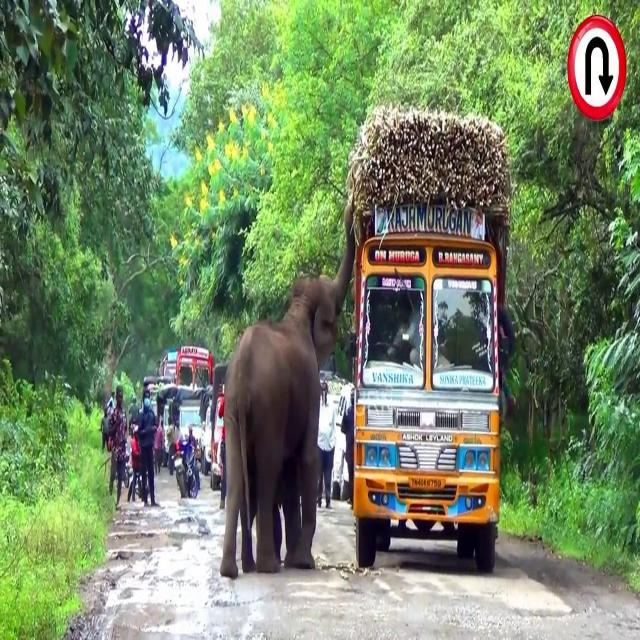Elephant: (220, 200, 356, 580)
